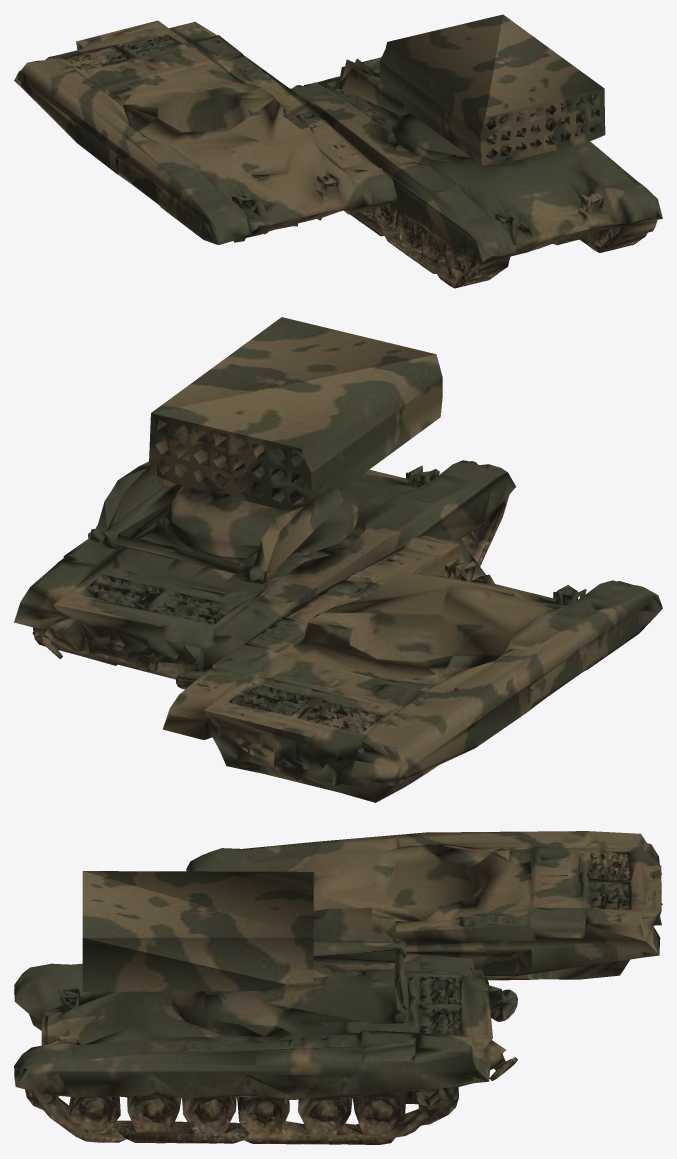
Rendered from mlrs_tos1.glb.
The picture shows the model from 3 angles, top to bottom: view 1: azimuth 30°, elevation 25°; view 2: azimuth 150°, elevation 25°; view 3: azimuth 270°, elevation 25°; orthographic projection. The views are drawn at different scales.
Visible parts, largest first — view 1: TOS-1_complete; view 2: TOS-1_complete; view 3: TOS-1_complete.
Boxes of the visible parts, left/top/right/bottom form: TOS-1_complete: left=14, top=14, right=662, bottom=288; TOS-1_complete: left=14, top=317, right=662, bottom=802; TOS-1_complete: left=14, top=831, right=662, bottom=1144.
Bounding box in the file's own units: 7.17 × 3.12 × 9.5.
1 material, 1 textured.
